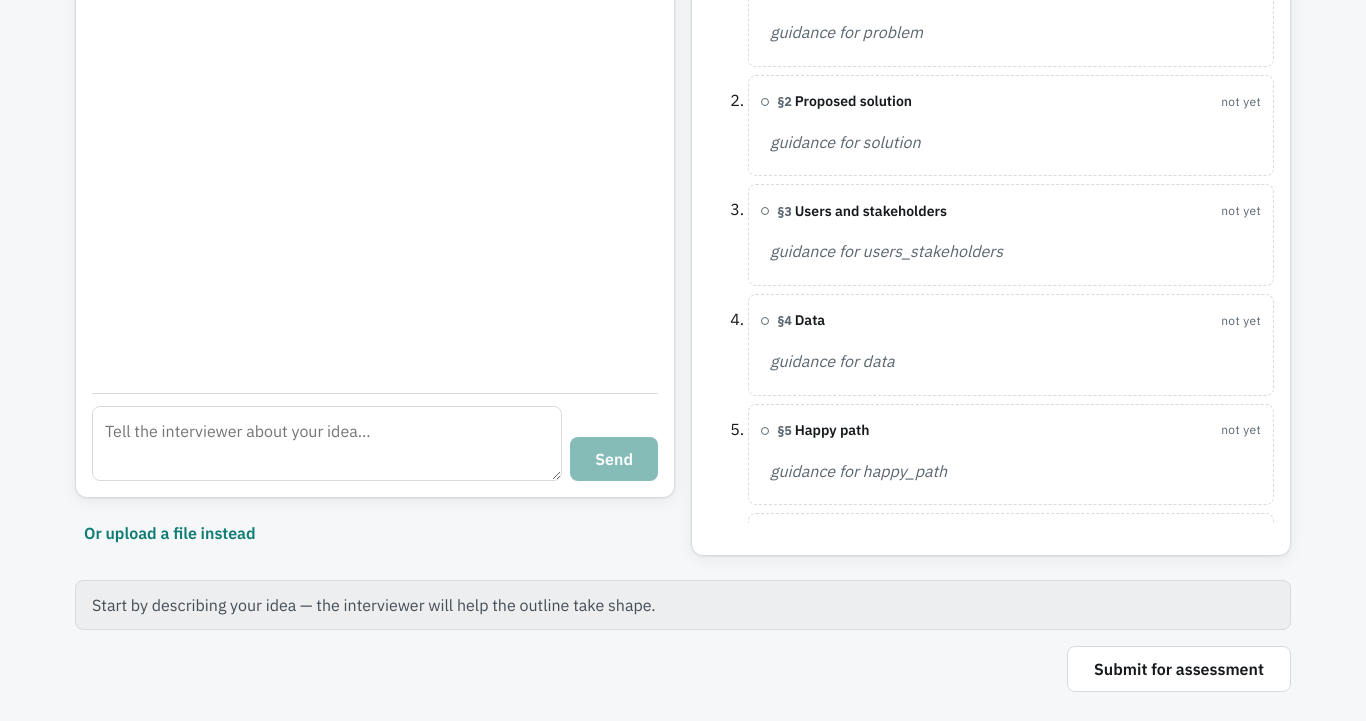
Brainstorm canvas › sends a message and folds the reply + newly-resolved section into the canvas
(page scrolled)
Type "People wait too long for replies." into the text box named "your message". click: (327, 444)
box: [92,406,562,482]
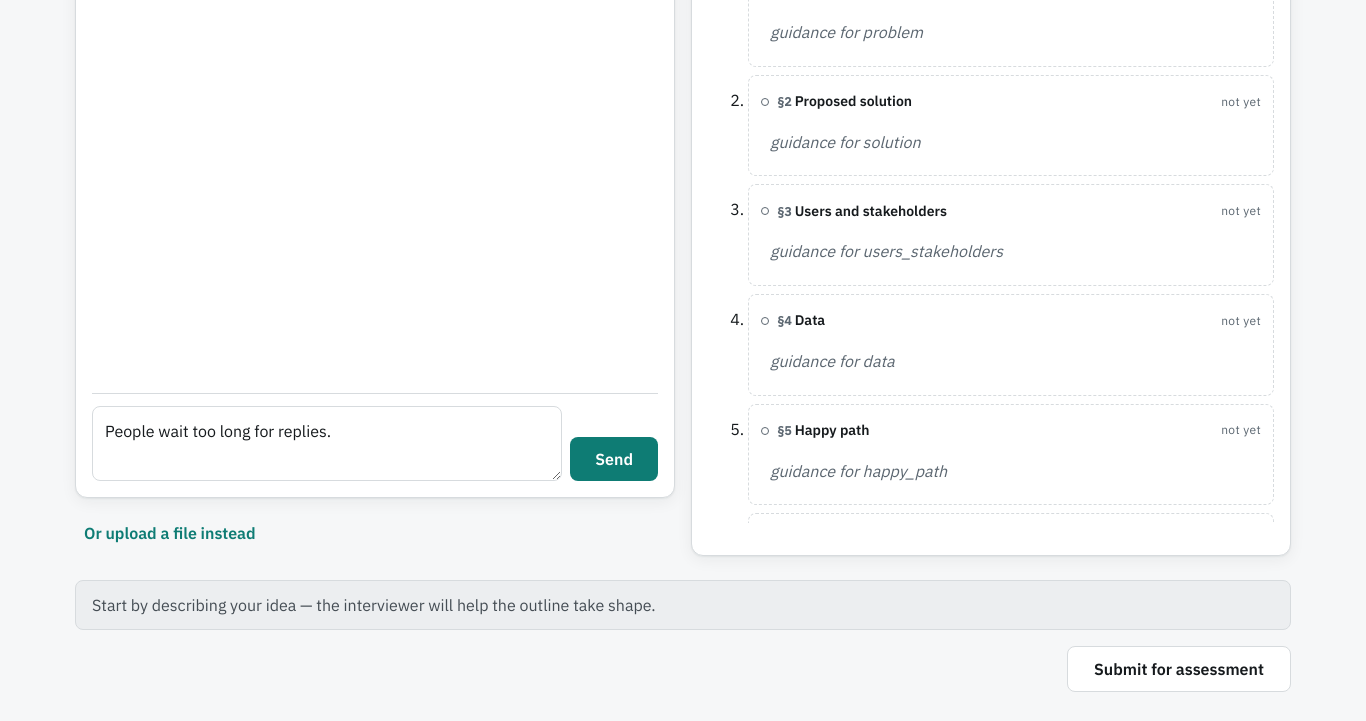
Click the button "Send". click: (614, 460)
box: [570,438,658,482]
(page scrolled)
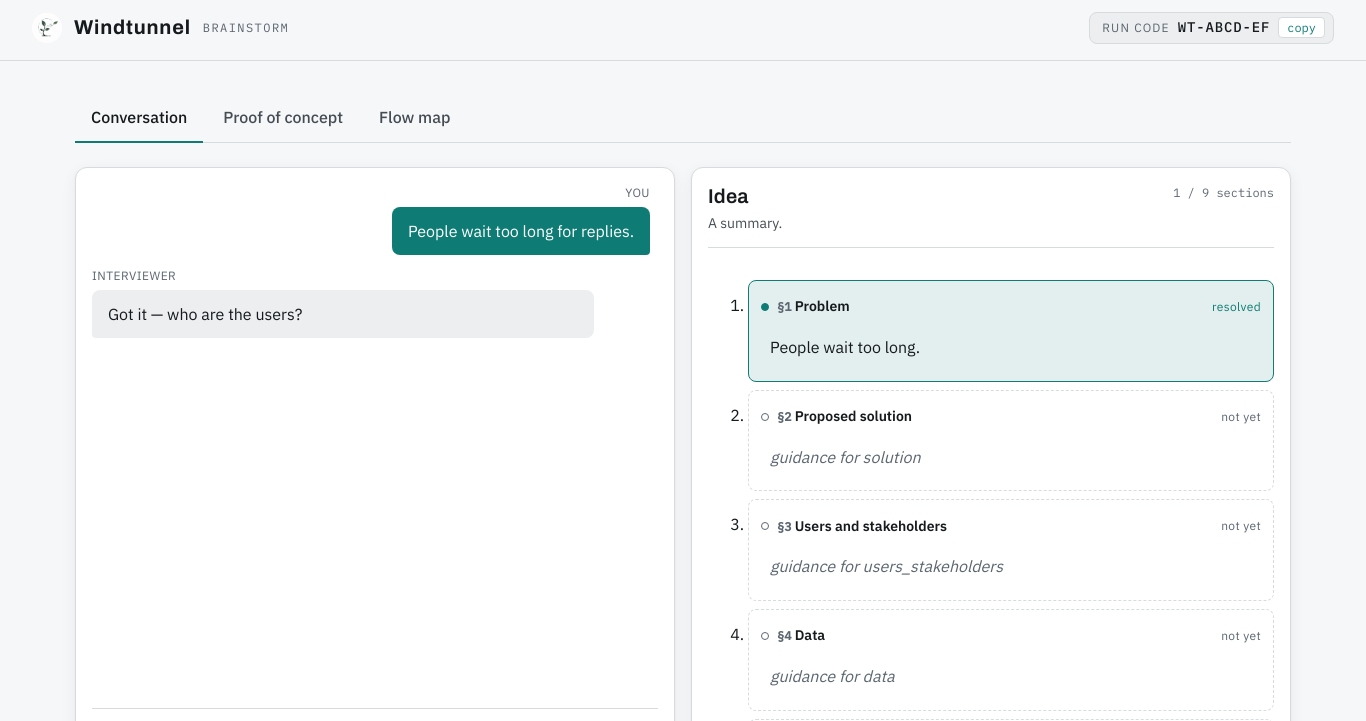
Now the text "Got it — who are the users?" is shown, box [92,290,594,338]
Now the text "People wait too long." is shown, box [770,337,920,357]
Now the text "1 / 9 sections" is shown, box [1173,184,1274,203]
